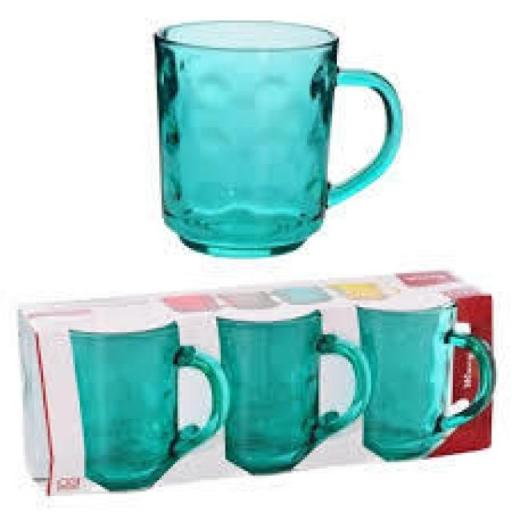glass: (144, 20, 417, 262), (64, 318, 228, 490), (211, 309, 373, 473), (352, 300, 495, 458)
